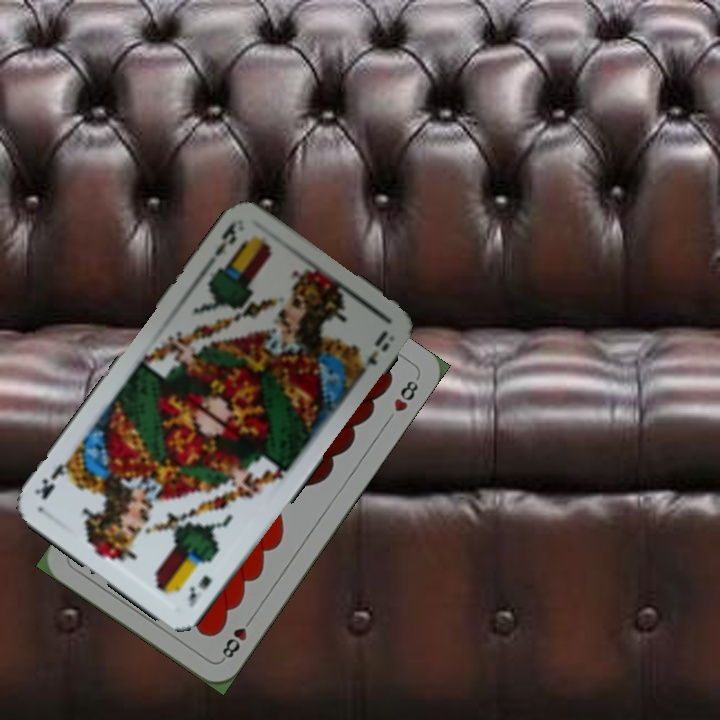EK: (210, 218, 240, 259), (184, 571, 215, 610)
H8: (217, 611, 257, 663)
